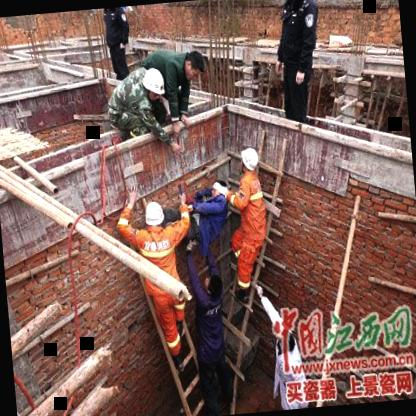head: (177, 47, 208, 84), (206, 176, 232, 204), (202, 265, 223, 294)
helmet: (142, 66, 166, 101), (142, 198, 166, 232), (238, 142, 258, 173)
